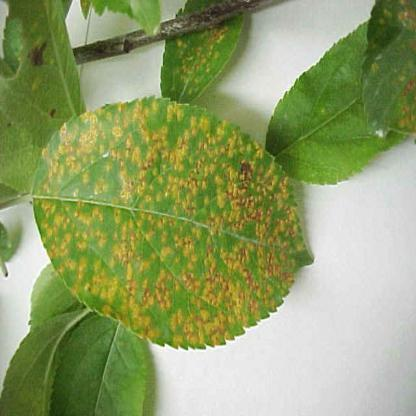Apple rust leaf: (25, 101, 318, 350)
